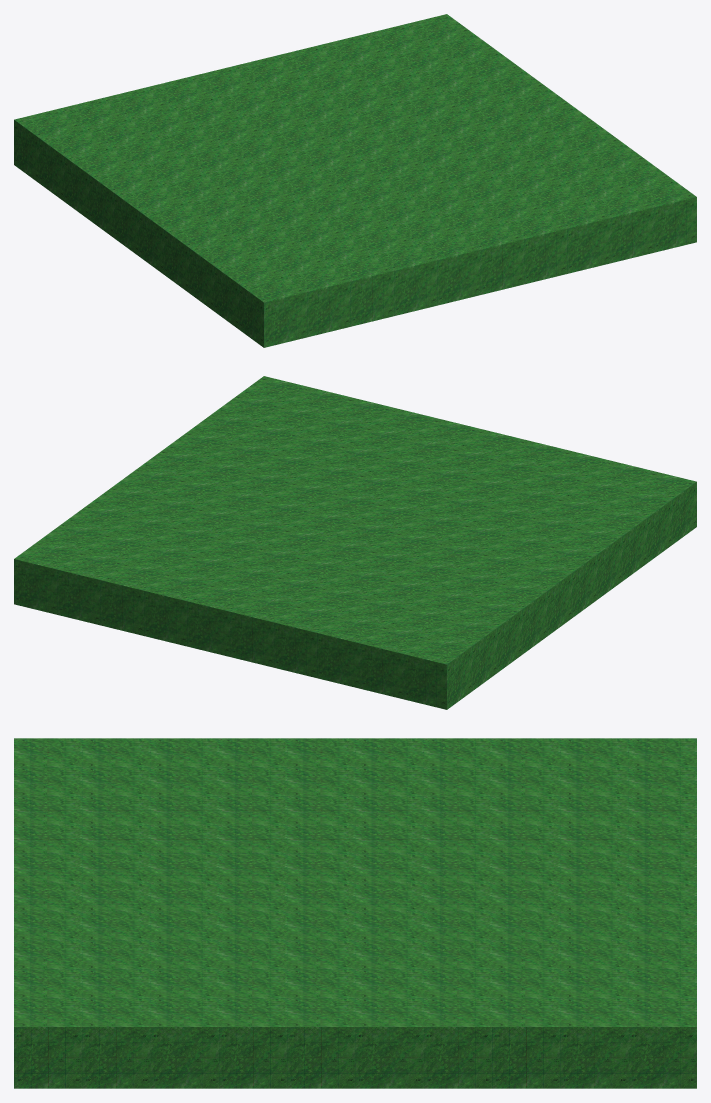
The model's file is newMakerGridFloorClover.fbx.
The picture shows the model from 3 angles, top to bottom: view 1: azimuth 30°, elevation 25°; view 2: azimuth 150°, elevation 25°; view 3: azimuth 270°, elevation 25°; orthographic projection. The views are drawn at different scales.
Parts seen in each view (by area): view 1: LargeWithTiledUV; view 2: LargeWithTiledUV; view 3: LargeWithTiledUV.
Part boxes in pixels (<box>): LargeWithTiledUV: <box>14,14,696,347</box>; LargeWithTiledUV: <box>14,376,696,709</box>; LargeWithTiledUV: <box>14,738,696,1088</box>.
Size of the model in its own units: 10000 by 1000 by 10000.
1 material, 1 textured.
